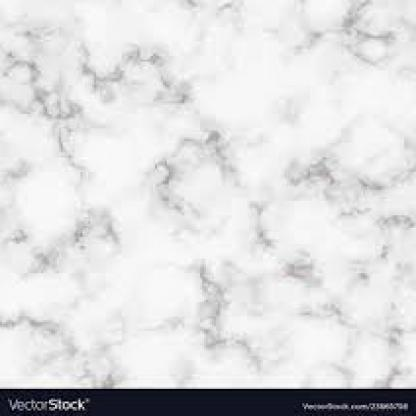Metamorphic_Marble: (0, 0, 414, 389)
